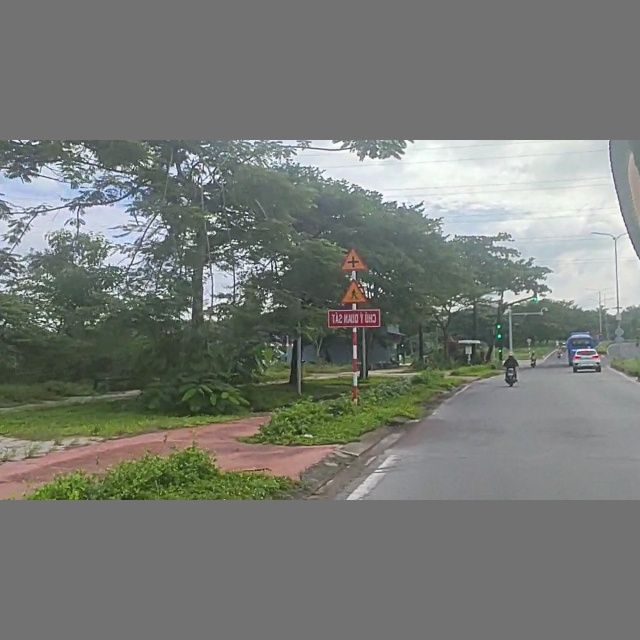W.205a: (340, 247, 369, 272)
W.224: (338, 279, 371, 305)
